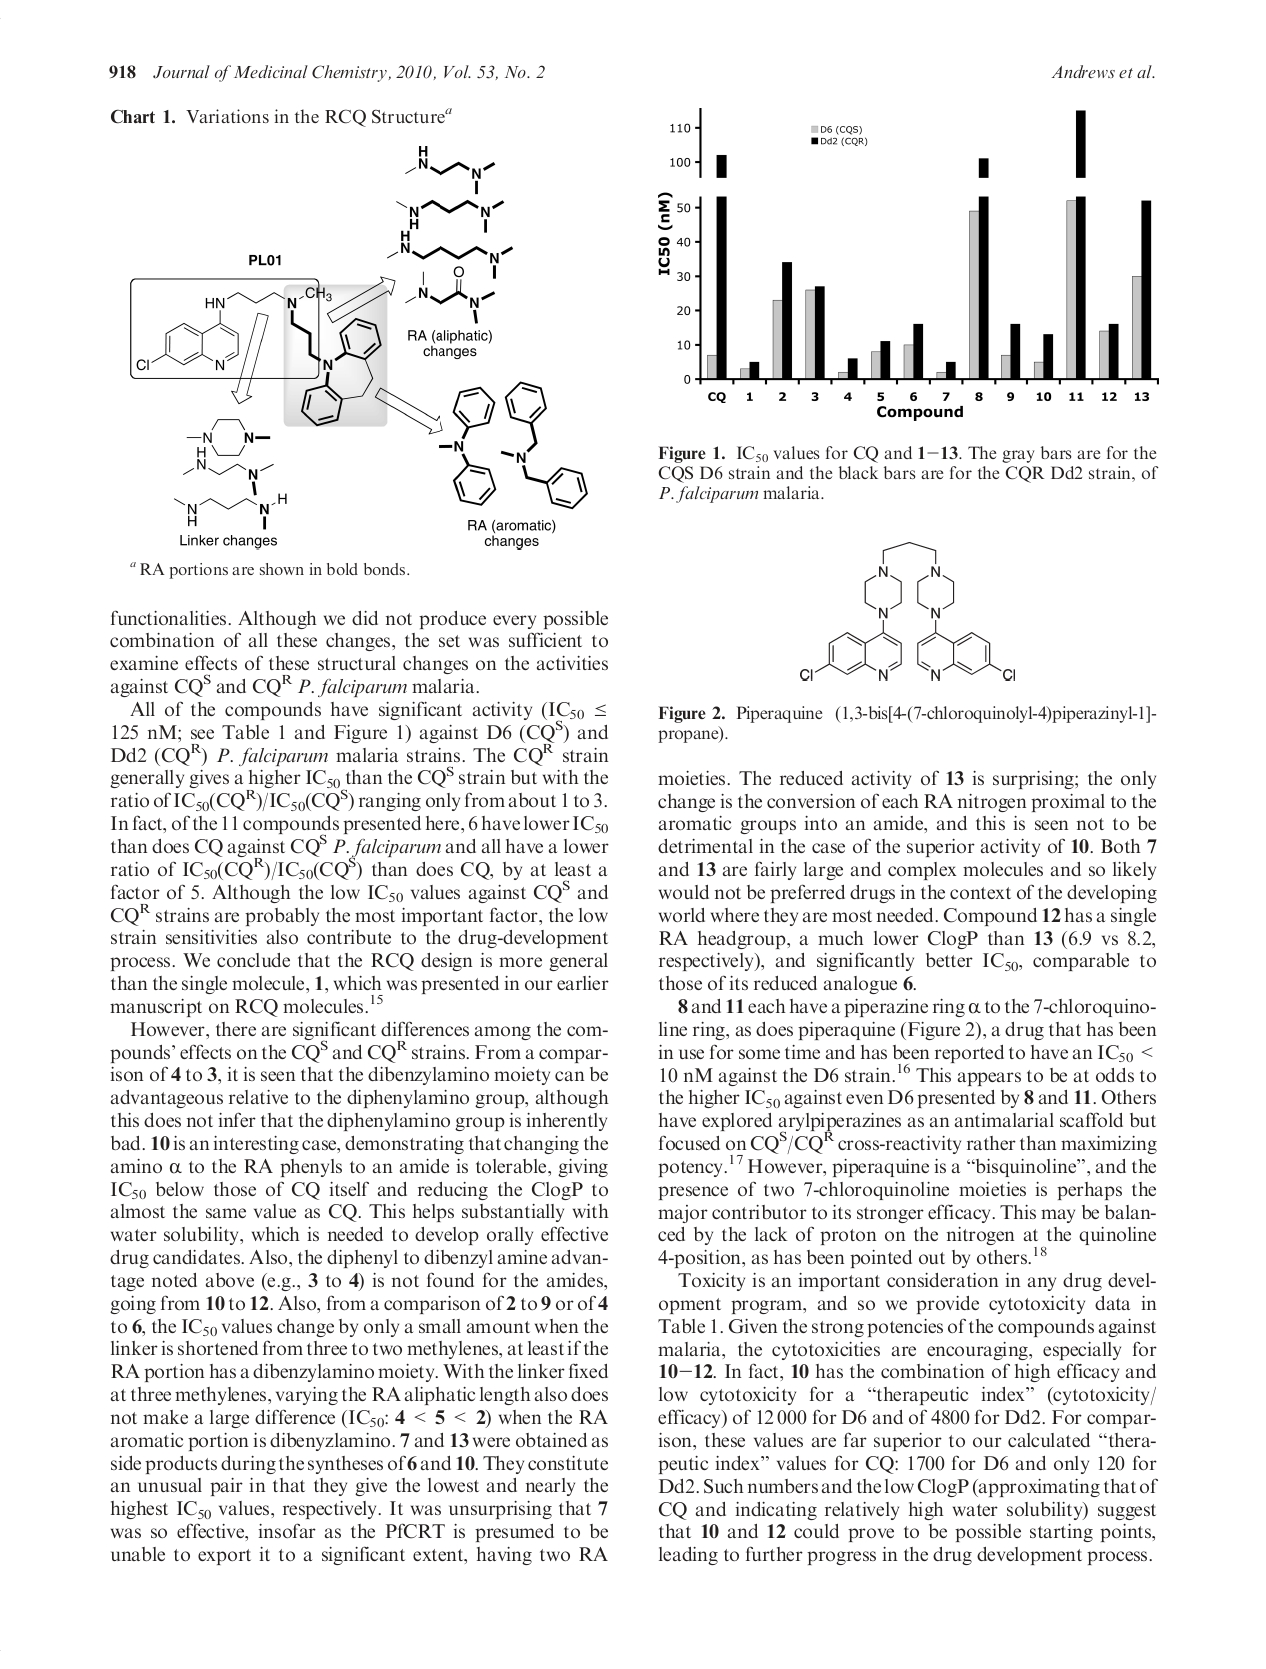exist_molecular: (137, 285, 383, 427), (798, 539, 1019, 684), (384, 142, 515, 327), (434, 376, 589, 508), (172, 418, 291, 533)
